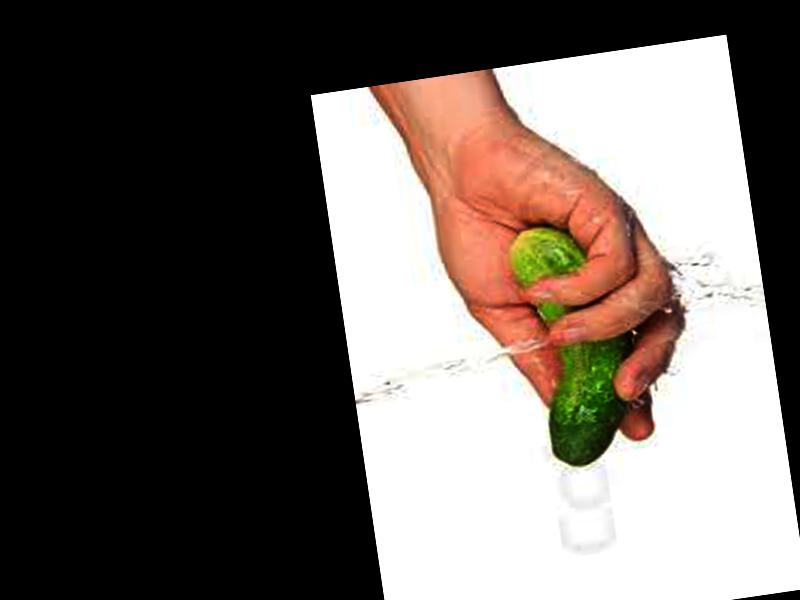Cucumber: (509, 218, 642, 472)
